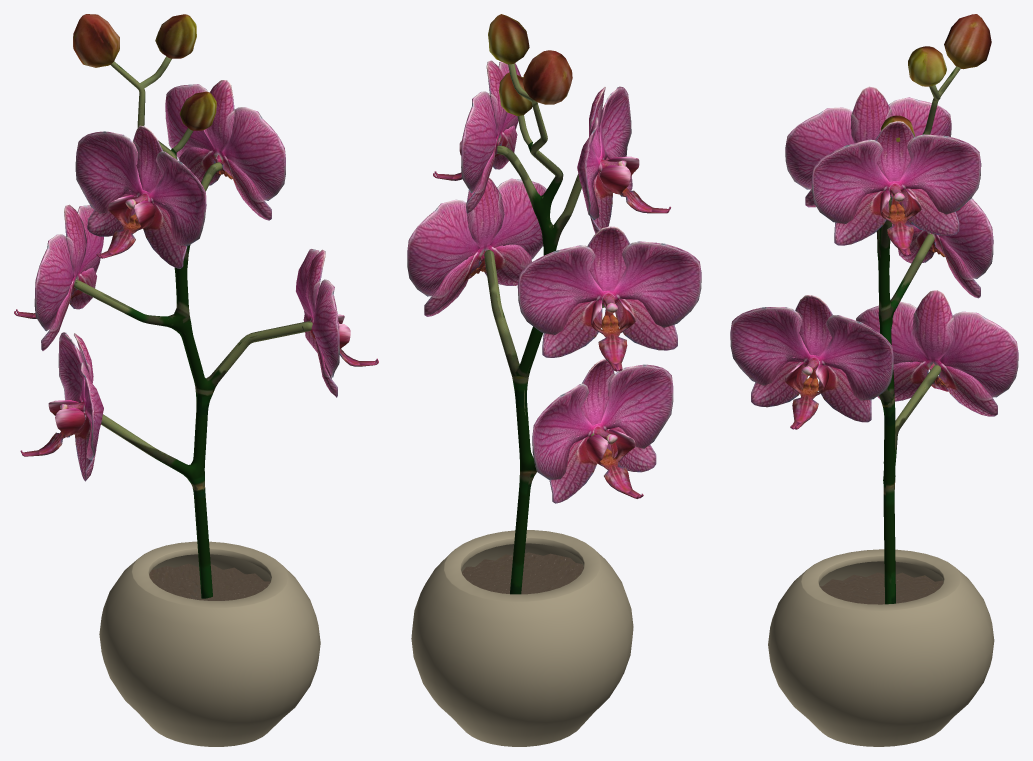
The picture shows the model from 3 angles, left to right: view 1: azimuth 30°, elevation 25°; view 2: azimuth 150°, elevation 25°; view 3: azimuth 270°, elevation 25°; orthographic projection. The views are drawn at different scales.
Parts seen in each view (by area): view 1: Piantina_Orchidea; view 2: Piantina_Orchidea; view 3: Piantina_Orchidea.
Part boxes in pixels (left/top/right/bottom): Piantina_Orchidea: left=14, top=14, right=378, bottom=746; Piantina_Orchidea: left=407, top=14, right=701, bottom=746; Piantina_Orchidea: left=730, top=14, right=1018, bottom=746.
Bounding box in the file's own units: 0.2478 × 0.55 × 0.2134.
Materials: 5 (4 with a texture image).
